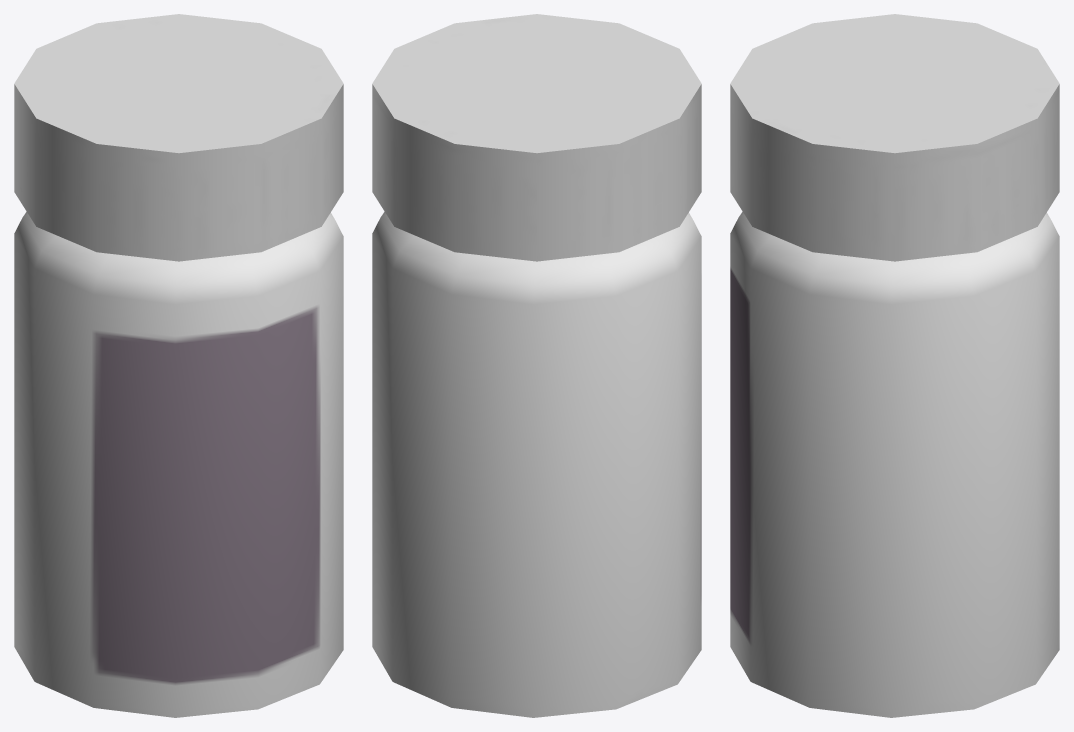
Rendered from PillBottle_1.fbx.
3 renders of one model, left to right at view 1: azimuth 30°, elevation 25°; view 2: azimuth 150°, elevation 25°; view 3: azimuth 270°, elevation 25°, orthographic.
Parts seen in each view (by area): view 1: PillBottle_1; view 2: PillBottle_1; view 3: PillBottle_1.
Part boxes in pixels (left/top/right/bottom): PillBottle_1: left=14, top=14, right=343, bottom=717; PillBottle_1: left=372, top=14, right=701, bottom=717; PillBottle_1: left=730, top=14, right=1059, bottom=717.
Size of the model in its own units: 0.046 by 0.087 by 0.046.
